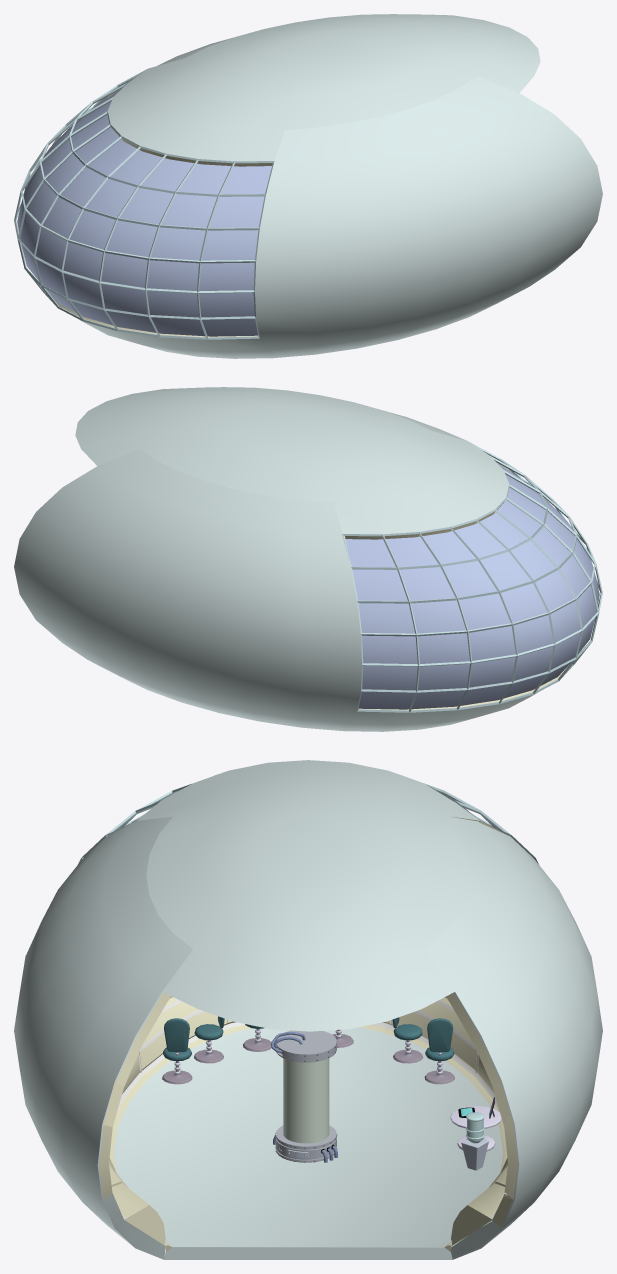
The model's file is Day_4.fbx.
3 renders of one model, top to bottom at view 1: azimuth 30°, elevation 25°; view 2: azimuth 150°, elevation 25°; view 3: azimuth 270°, elevation 25°, orthographic. The views are drawn at different scales.
Visible parts, largest first — view 1: Sphere.012, Sphere.000, Sphere.007; view 2: Sphere.012, Sphere.000, Sphere.007; view 3: Sphere.012, Cylinder.002, Cylinder.010, Cylinder.008, Sphere.007, Cylinder.018, Cylinder.013.
Boxes of the visible parts, x1,y1,x2,y2 form: Sphere.012: (48,14,602,358); Sphere.000: (17,90,271,336); Sphere.007: (14,69,274,339); Sphere.012: (14,387,568,731); Sphere.000: (345,463,599,709); Sphere.007: (342,442,602,712); Sphere.012: (14,760,602,1259); Cylinder.002: (271,1030,337,1162); Cylinder.010: (162,1018,454,1084); Cylinder.008: (194,1016,423,1063); Sphere.007: (78,783,538,864); Cylinder.018: (461,1112,488,1170); Cylinder.013: (450,1106,501,1151).
Bounding box in the file's own units: 538 × 243 × 407.
